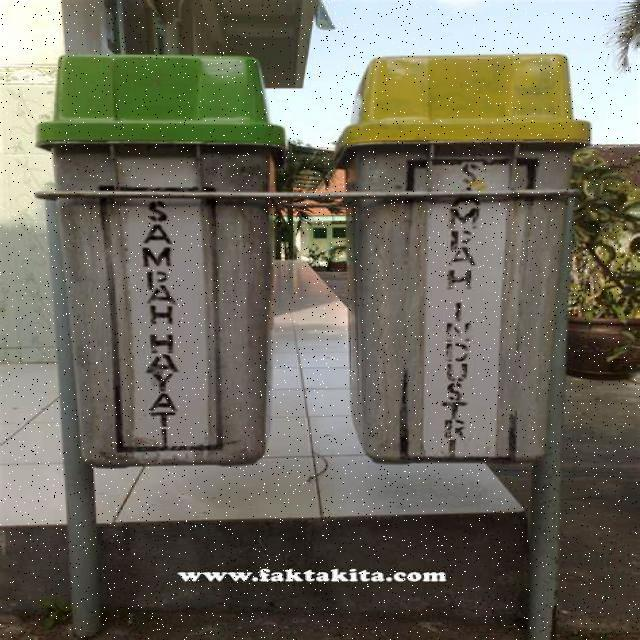garbage container: (1, 50, 322, 482), (351, 45, 640, 481)
